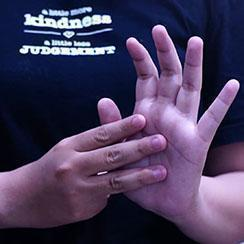M: (0, 9, 231, 226)
